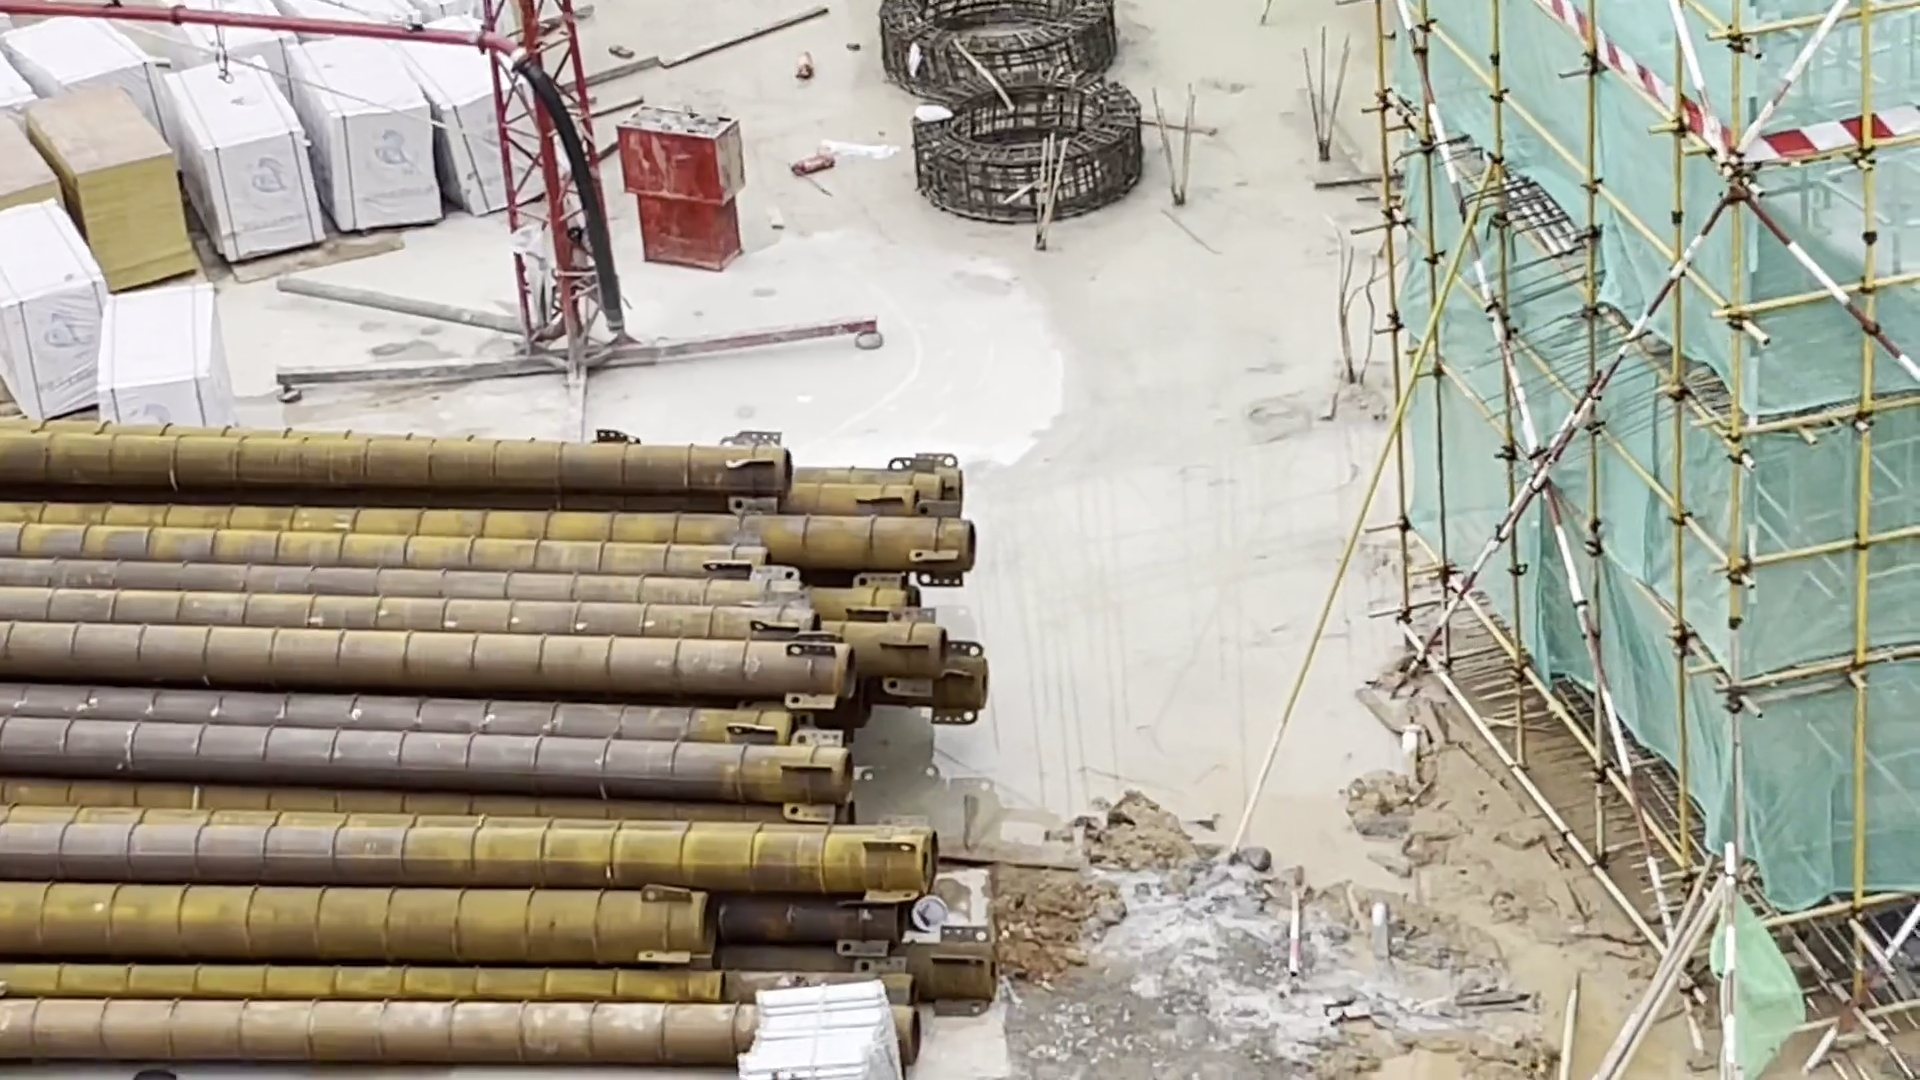board: (3, 78, 214, 311)
scaffold: (735, 976, 959, 1080)
